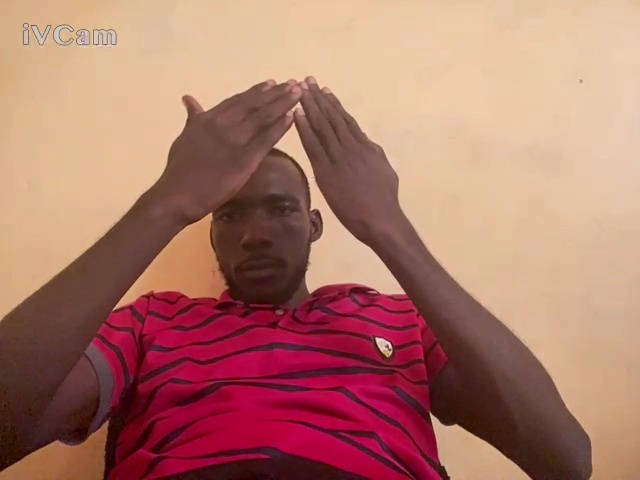merci: (156, 69, 417, 242)
